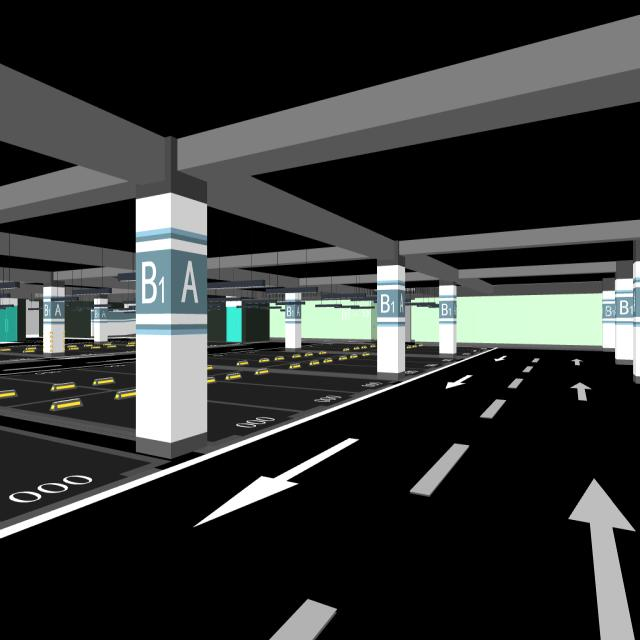simu_pillar: (136, 194, 208, 458), (376, 264, 405, 380), (42, 284, 65, 353), (439, 284, 456, 355), (285, 292, 301, 348), (94, 298, 108, 341)
